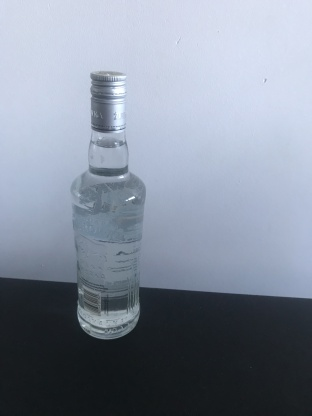nakretka: (89, 67, 128, 135)
